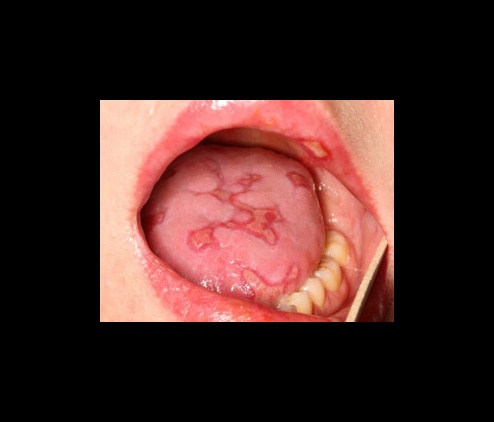SJS-TEN: (158, 142, 306, 287), (231, 251, 308, 317), (291, 121, 345, 178)
